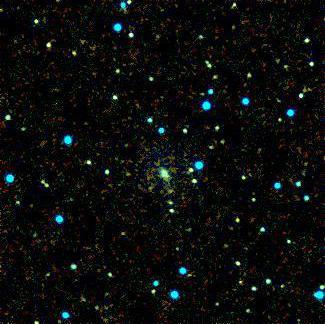star: (113, 156, 143, 186)
